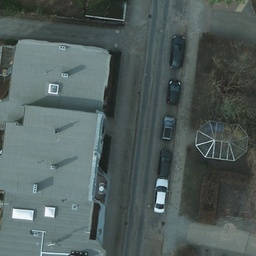car: (152, 179, 168, 212), (157, 147, 173, 180), (160, 114, 176, 147), (166, 77, 182, 110), (168, 36, 184, 69)
